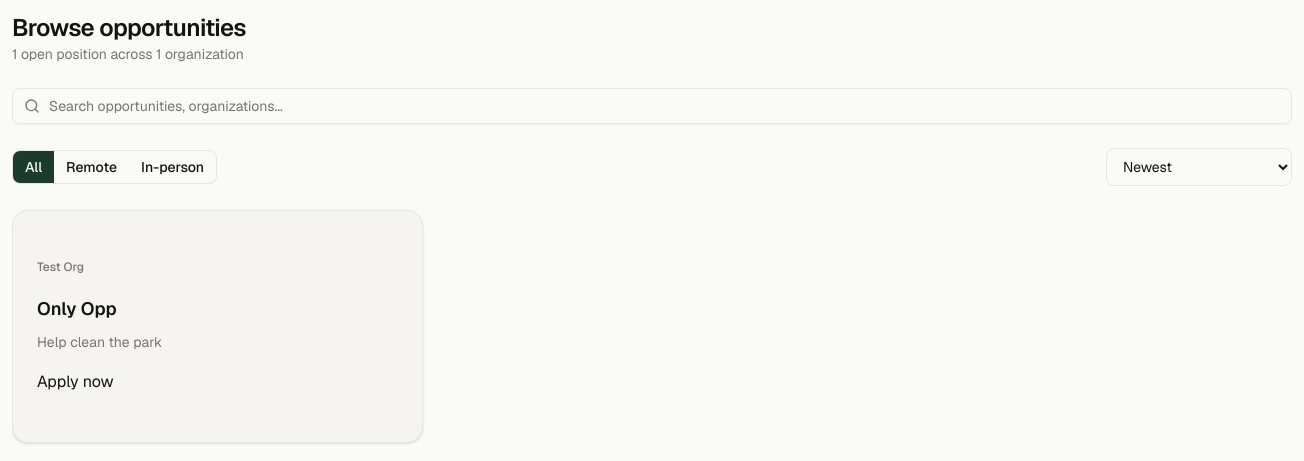
it: BrowseOpportunities › shows the plain "Clear filters" message when an explicit filter (not qualification) empties the list
This screenshot has width=1304, height=461.
Type "no-match-for-this-query" into the search field with placeholder "Search opportunities, organizations..." at (652, 106), box [12, 88, 1292, 124]
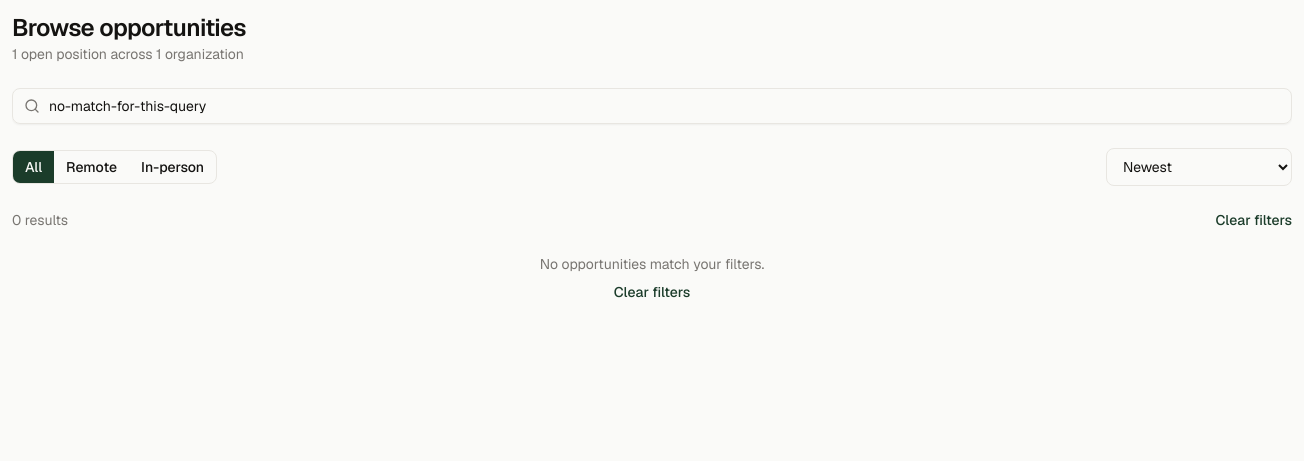
Result: the text "No opportunities match your filters." is shown at [540, 255, 764, 273]
Click the button "Clear filters" in the row of "results" at (1254, 220), box [1216, 210, 1292, 230]
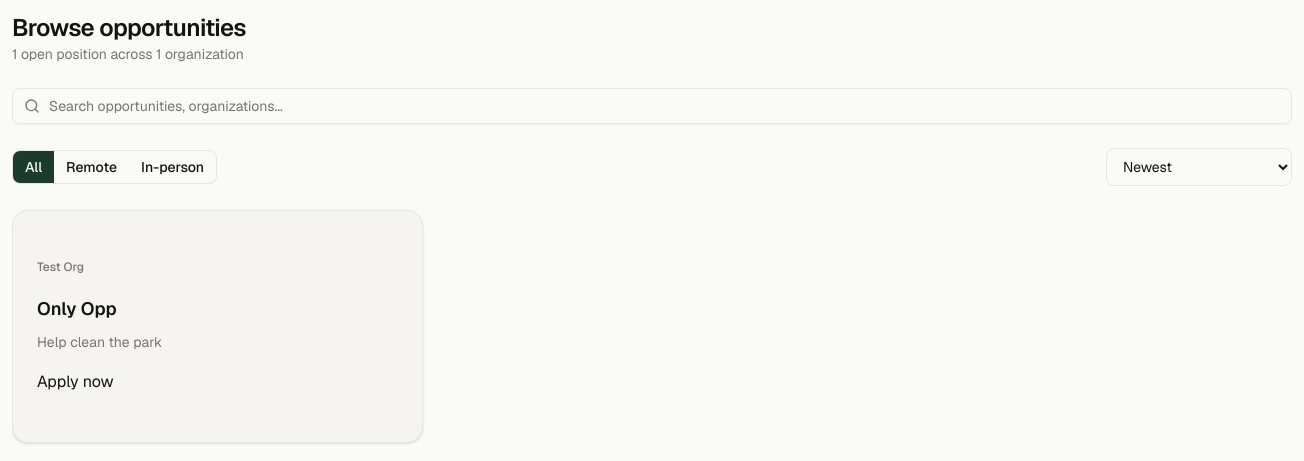
Result: the heading "Only Opp" is shown at [37, 297, 117, 320]
